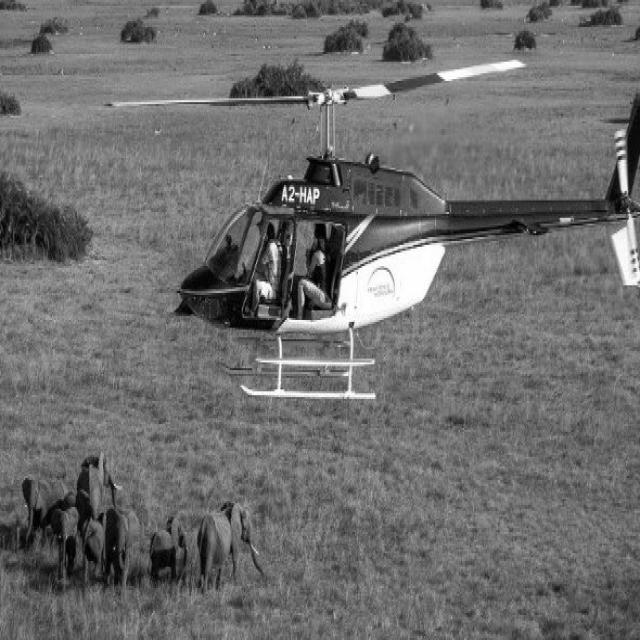helicopter: (130, 38, 640, 416)
